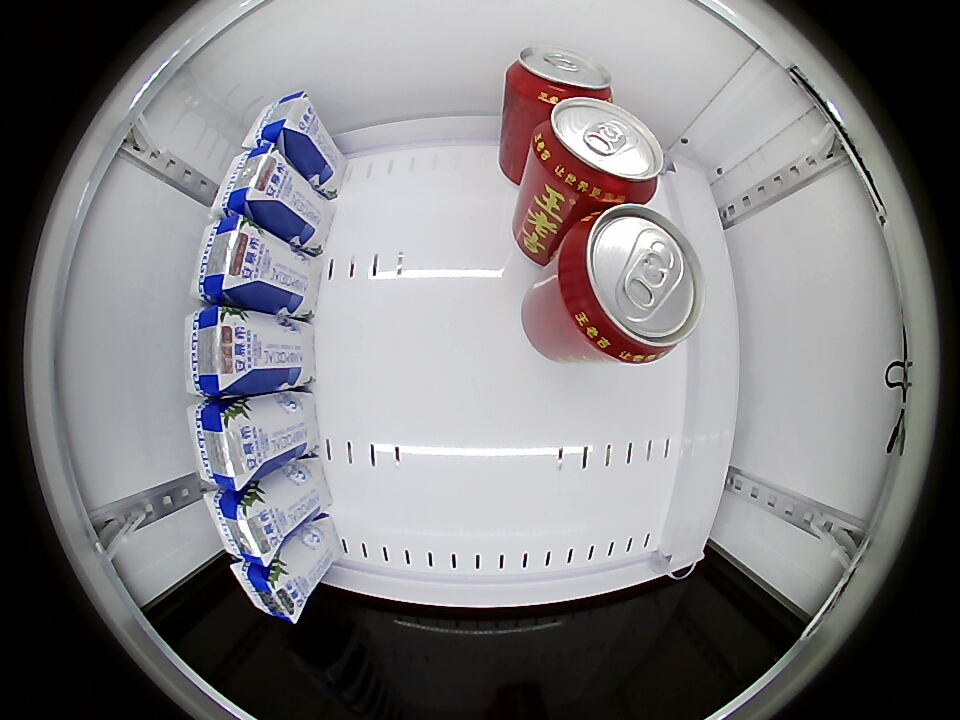anmuxi: (187, 398, 260, 493), (184, 305, 252, 397), (193, 213, 261, 304), (205, 487, 281, 567), (212, 142, 286, 218), (231, 557, 307, 624), (242, 89, 315, 152)
wanglaoji-c: (554, 205, 704, 364), (533, 98, 664, 205), (507, 46, 614, 106)
